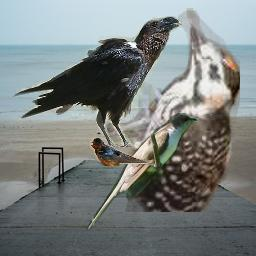Crow: (12, 16, 182, 148)
Cuckoo: (86, 113, 197, 231)
Swallow: (90, 137, 155, 166)
Woodpecker: (105, 8, 240, 212)
